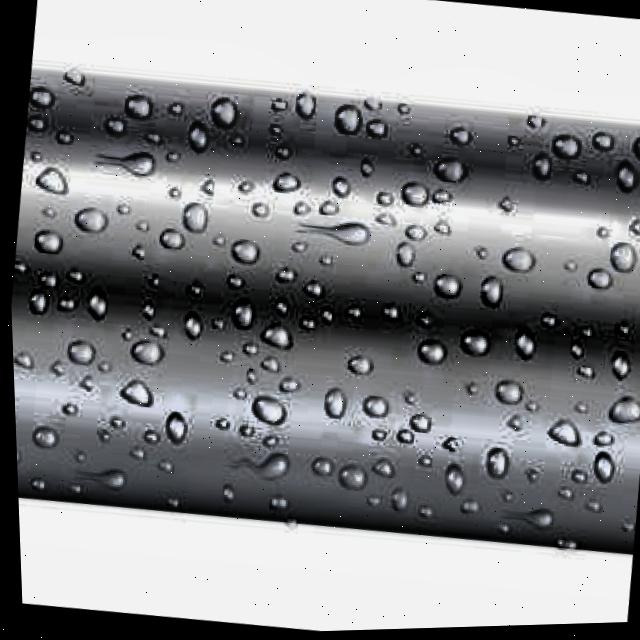metal: (2, 37, 640, 593)
